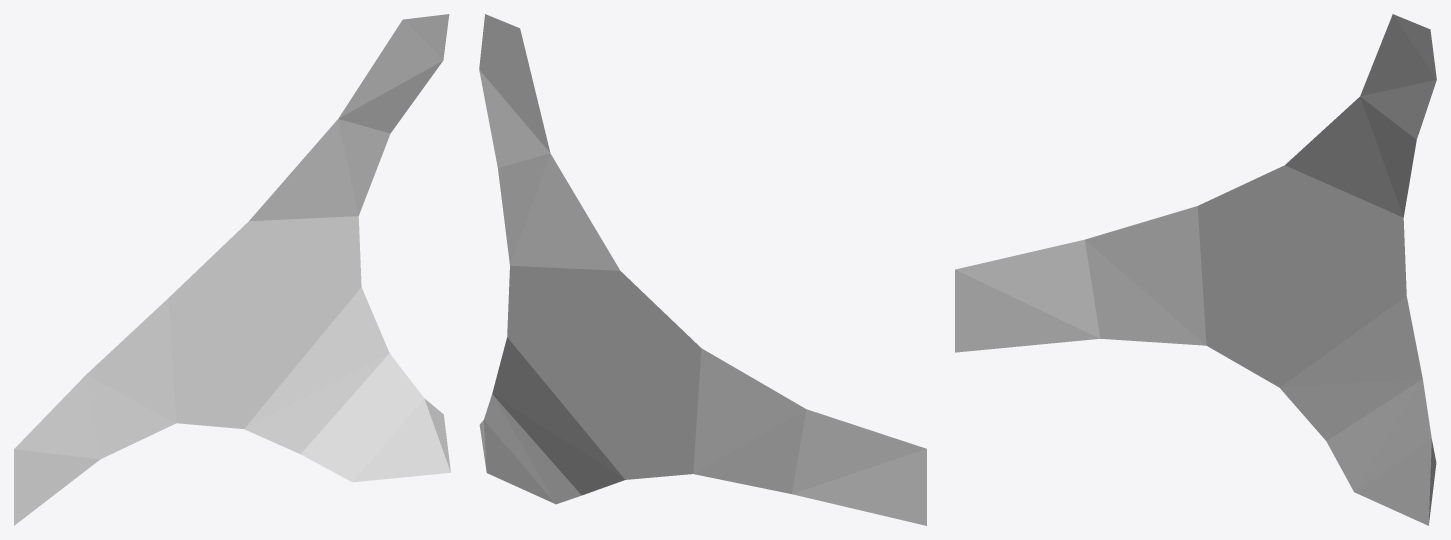
The model's file is Webbing_05_v2.obj.
3 renders of one model, left to right at view 1: azimuth 30°, elevation 25°; view 2: azimuth 150°, elevation 25°; view 3: azimuth 330°, elevation 25°, orthographic. The views are drawn at different scales.
Parts seen in each view (by area): view 1: Plane002; view 2: Plane002; view 3: Plane002.
Boxes of the visible parts, x1,y1,x2,y2 form: Plane002: (14,14,450,525); Plane002: (479,14,926,525); Plane002: (955,14,1436,525).
Size of the model in its own units: 180 by 180 by 24.87.
